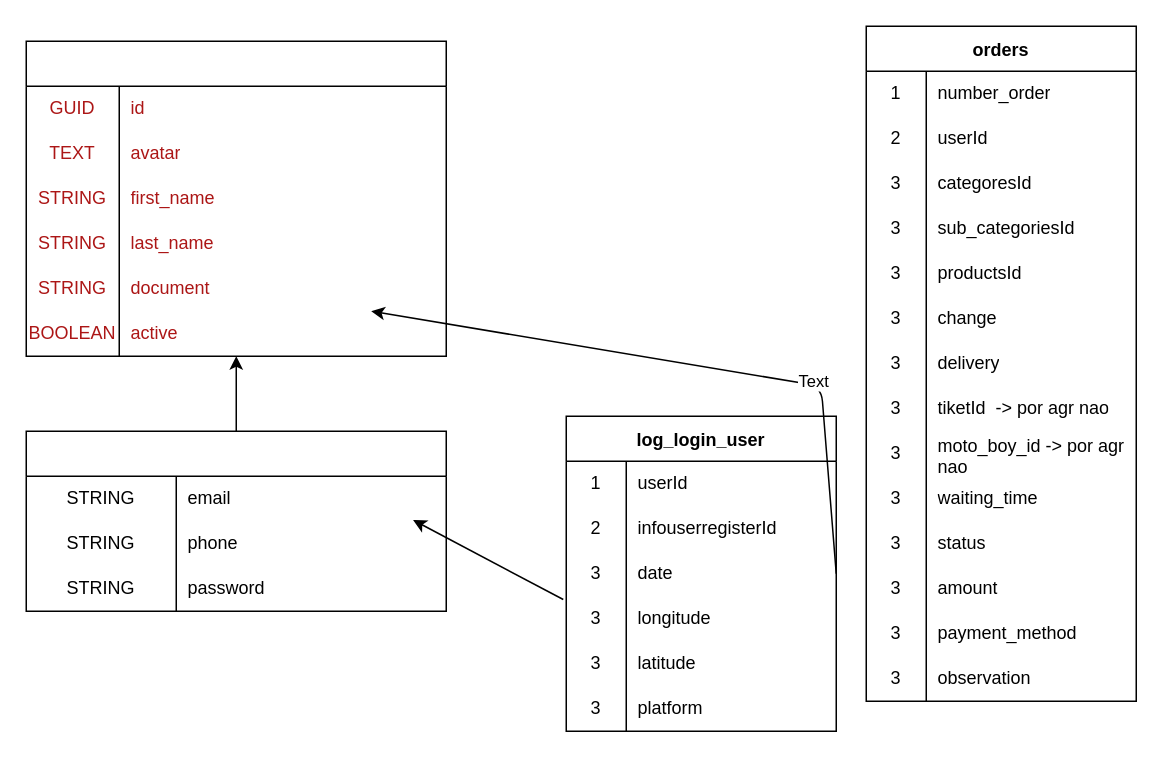
The diagram is 1163 pixels wide and 758 high, and some of its shapes have lost their labels. Here are the shapes that lost their labels. From the top down, the box of each, then its label:
(25, 40, 446, 356): UERS
(25, 430, 446, 611): info_user_register
